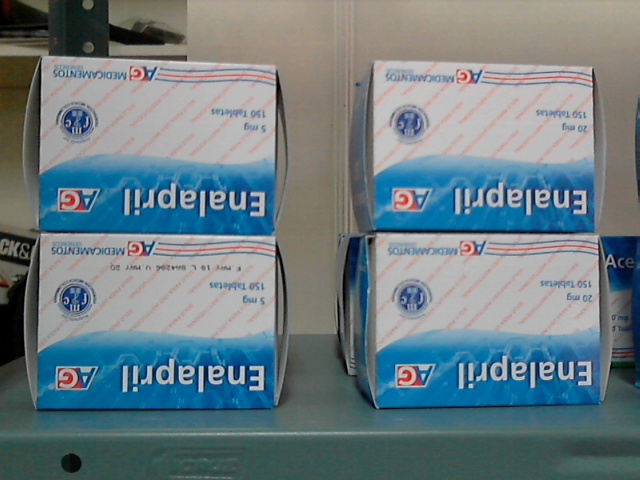AG: (41, 58, 274, 235), (38, 236, 274, 410), (377, 237, 600, 405), (374, 61, 594, 231)
